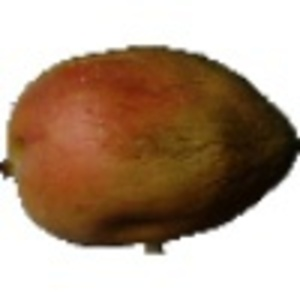mamão: (6, 39, 296, 244)
